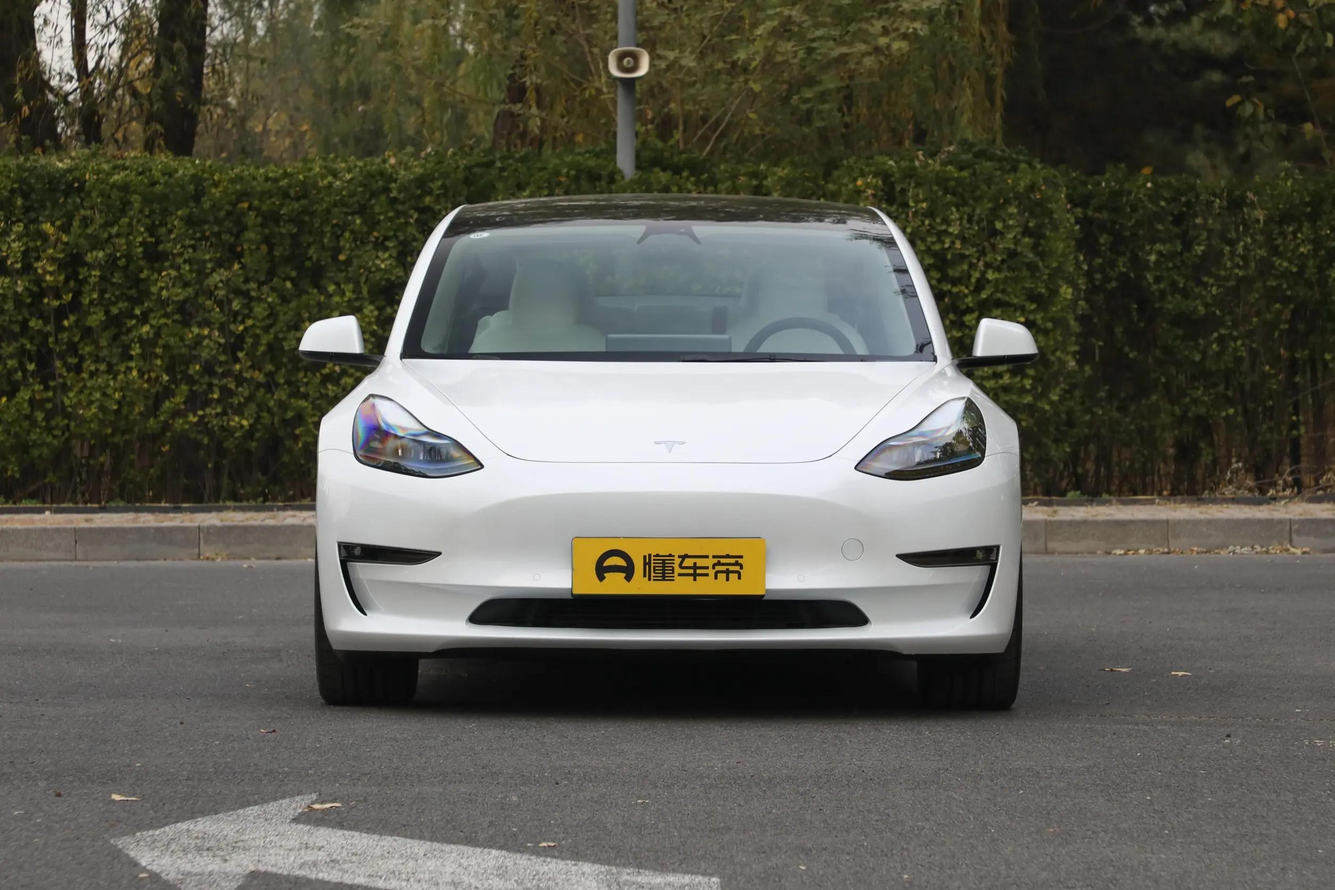Tesla: (654, 440, 686, 454)
